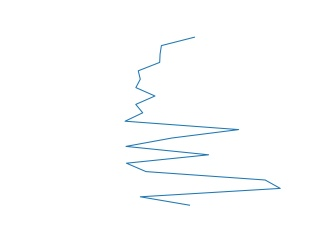crevasseRiverBedLagDeposit: (120, 35, 283, 208)
